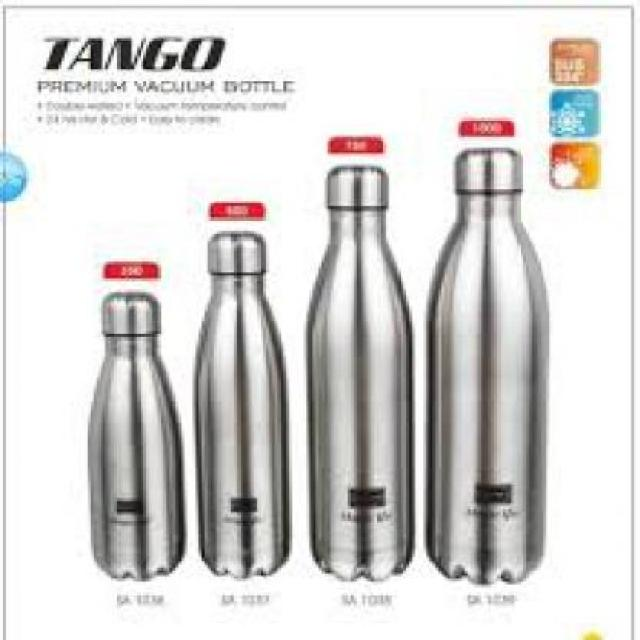Drinking: (418, 114, 560, 598), (307, 147, 411, 593), (187, 220, 298, 578), (84, 278, 178, 596)
